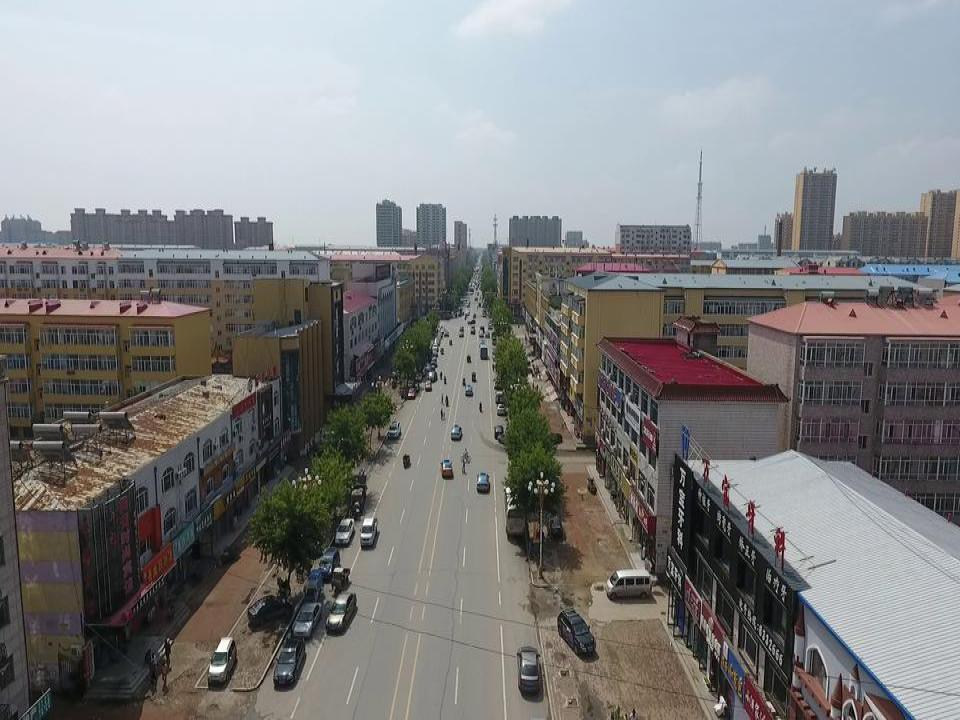bus: (503, 484, 525, 535)
car: (557, 606, 597, 654), (272, 638, 305, 686), (247, 594, 294, 626), (207, 636, 237, 685), (324, 591, 357, 632), (516, 646, 540, 694), (293, 601, 322, 640), (317, 547, 340, 580), (334, 518, 355, 546), (547, 513, 563, 538), (387, 420, 401, 440), (476, 472, 490, 492), (440, 458, 453, 478), (497, 432, 514, 445), (450, 424, 462, 440), (587, 477, 596, 495), (493, 425, 504, 439), (464, 384, 474, 396), (496, 402, 505, 414), (427, 371, 437, 381), (408, 386, 416, 398), (424, 380, 431, 391)
truck: (359, 516, 378, 547)
van: (605, 568, 652, 600)
